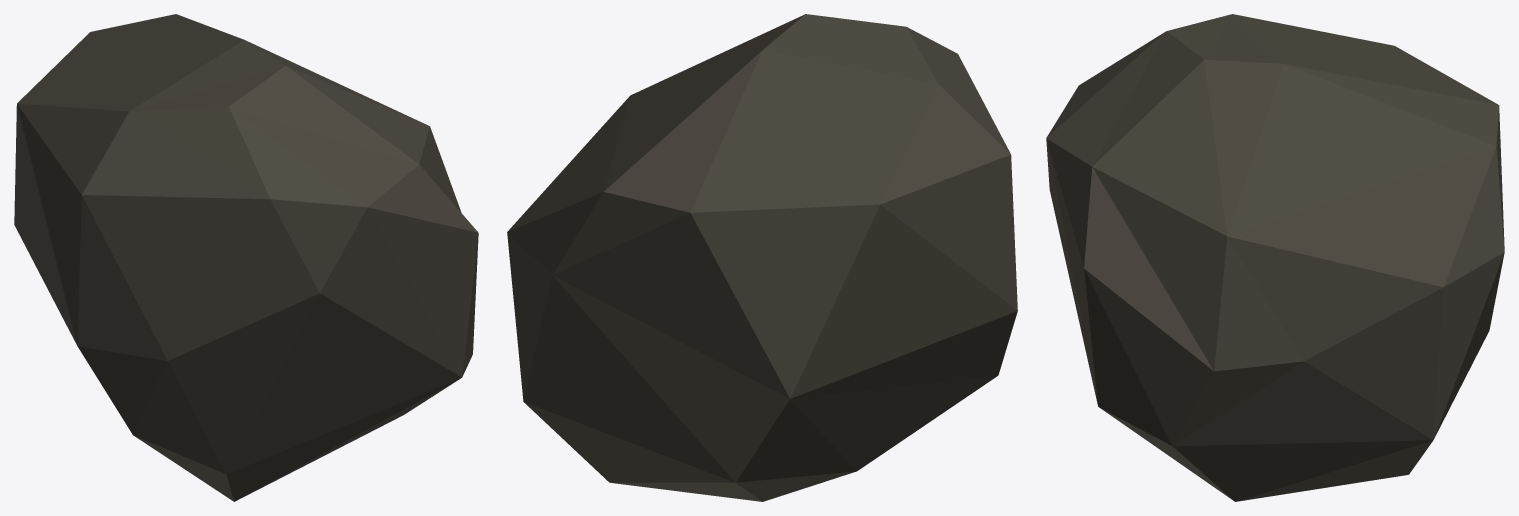
Rendered from SmallBoulder1.FBX.
3 renders of one model, left to right at view 1: azimuth 30°, elevation 25°; view 2: azimuth 150°, elevation 25°; view 3: azimuth 270°, elevation 25°, orthographic. The views are drawn at different scales.
Visible parts, largest first — view 1: SmallBoulder001; view 2: SmallBoulder001; view 3: SmallBoulder001.
Part boxes in pixels (x1=…): SmallBoulder001: x1=14, y1=14, x2=478, y2=501; SmallBoulder001: x1=507, y1=14, x2=1017, y2=501; SmallBoulder001: x1=1046, y1=14, x2=1504, y2=501.
Bounding box in the file's own units: 21.59 × 22.65 × 22.34.
